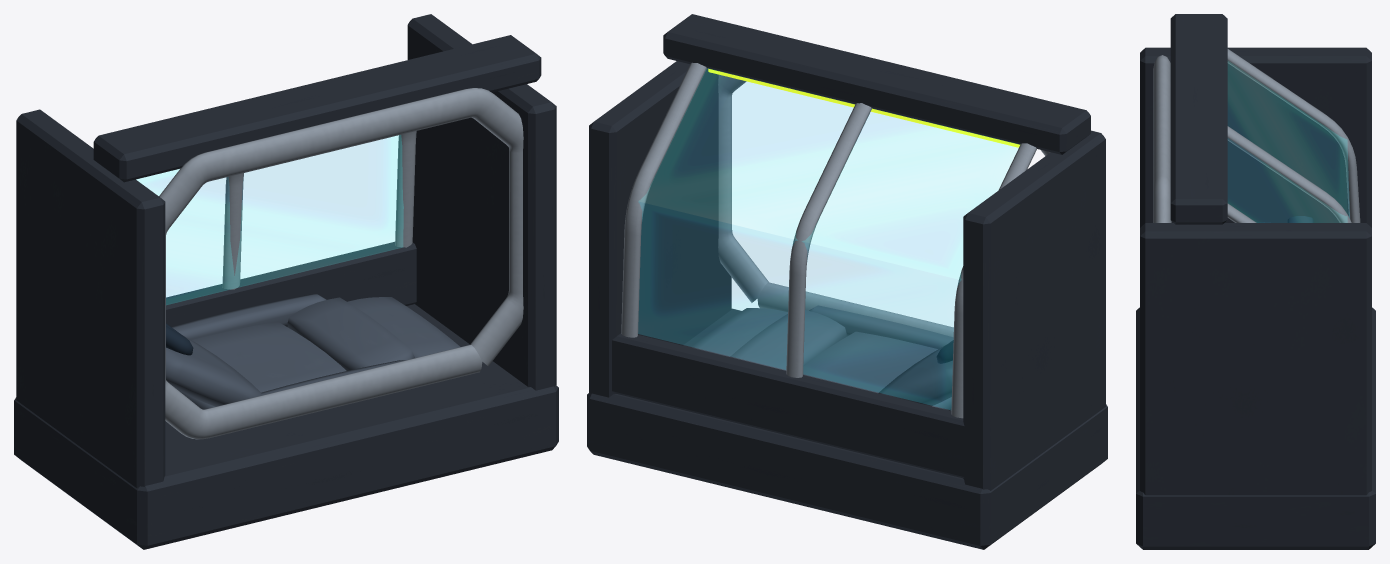
The model's file is bunk_winner_04_observation_lounge.glb.
3 views of the same model, side by side, from view 1: azimuth 30°, elevation 25°; view 2: azimuth 150°, elevation 25°; view 3: azimuth 270°, elevation 25° (orthographic). The views are drawn at different scales.
Parts seen in each view (by area): view 1: StargazerPod_CarbonSlateChassis, StargazerPod_SkylightSteelMullions, StargazerPod_TranslucentSkylightGlass, StargazerPod_SplitLevelLoungerPad; view 2: StargazerPod_CarbonSlateChassis, StargazerPod_TranslucentSkylightGlass, StargazerPod_SkylightSteelMullions, StargazerPod_SplitLevelLoungerPad, StargazerPod_AmberSkylightLED; view 3: StargazerPod_CarbonSlateChassis, StargazerPod_TranslucentSkylightGlass, StargazerPod_SkylightSteelMullions.
Boxes of the visible parts, <box> form: StargazerPod_CarbonSlateChassis: <box>14,14,558,549</box>; StargazerPod_SkylightSteelMullions: <box>159,88,523,439</box>; StargazerPod_TranslucentSkylightGlass: <box>137,135,403,304</box>; StargazerPod_SplitLevelLoungerPad: <box>166,294,460,409</box>; StargazerPod_CarbonSlateChassis: <box>587,14,1107,549</box>; StargazerPod_TranslucentSkylightGlass: <box>638,68,1019,409</box>; StargazerPod_SkylightSteelMullions: <box>621,62,1050,418</box>; StargazerPod_SplitLevelLoungerPad: <box>691,305,953,410</box>; StargazerPod_AmberSkylightLED: <box>708,68,1019,147</box>; StargazerPod_CarbonSlateChassis: <box>1136,14,1375,549</box>; StargazerPod_TranslucentSkylightGlass: <box>1228,61,1349,222</box>; StargazerPod_SkylightSteelMullions: <box>1153,49,1360,222</box>.
Size of the model in its own units: 2.2 by 1.91 by 1.18.
Materials: 8 (8 with a texture image).
